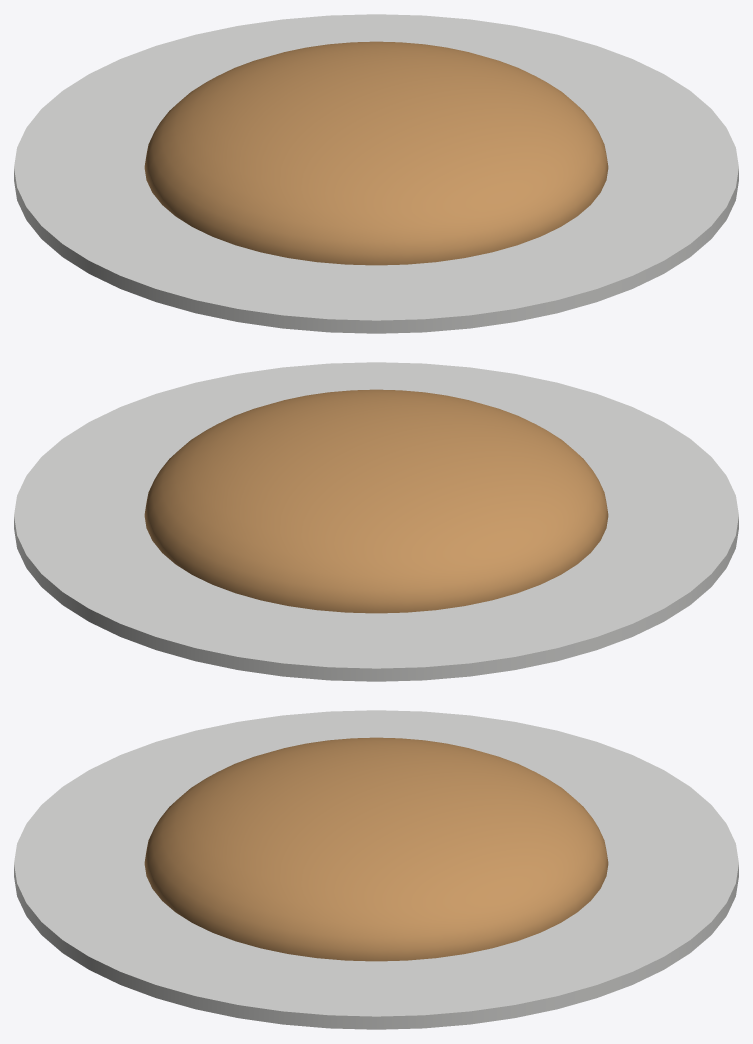
Rendered from prato-exemplo.glb.
3 views of the same model, one above another, from view 1: azimuth 30°, elevation 25°; view 2: azimuth 150°, elevation 25°; view 3: azimuth 270°, elevation 25° (orthographic).
Parts seen in each view (by area): view 1: prato; view 2: prato; view 3: prato.
Part boxes in pixels (<box>): prato: <box>14,14,738,333</box>; prato: <box>14,362,738,681</box>; prato: <box>14,710,738,1029</box>.
Size of the model in its own units: 1 by 0.14 by 1.
